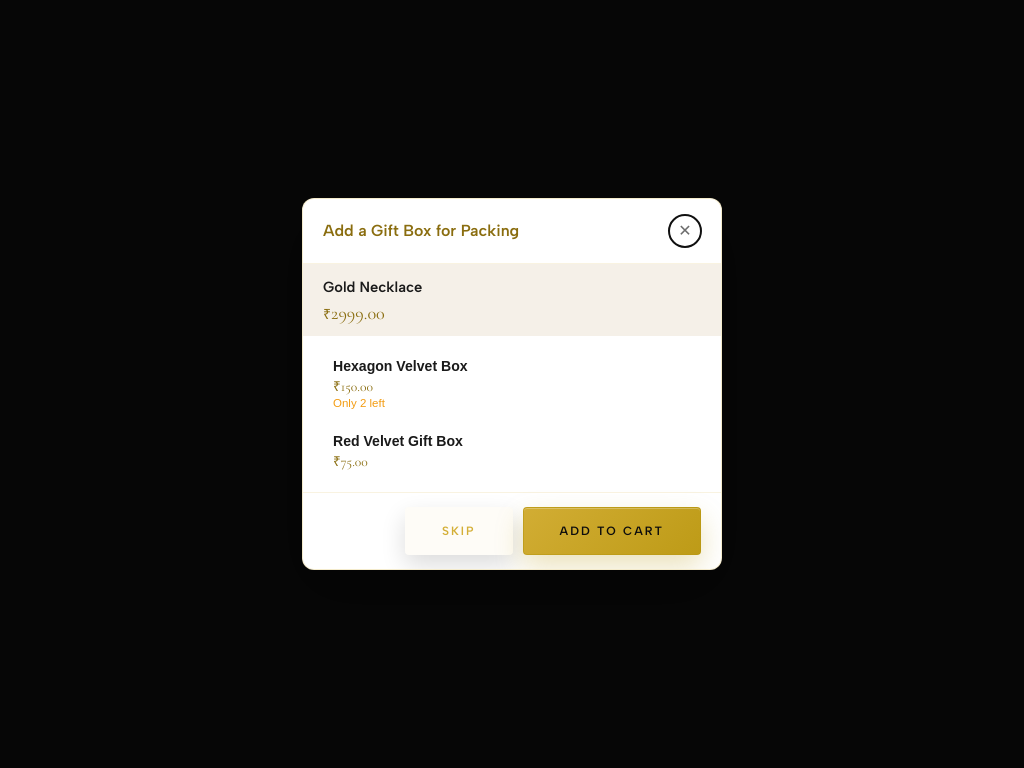
Test: GiftBoxModal › increments gift box quantity
Note: Select the box
Click the text "Hexagon Velvet Box": (400, 366) [333,358,468,374]
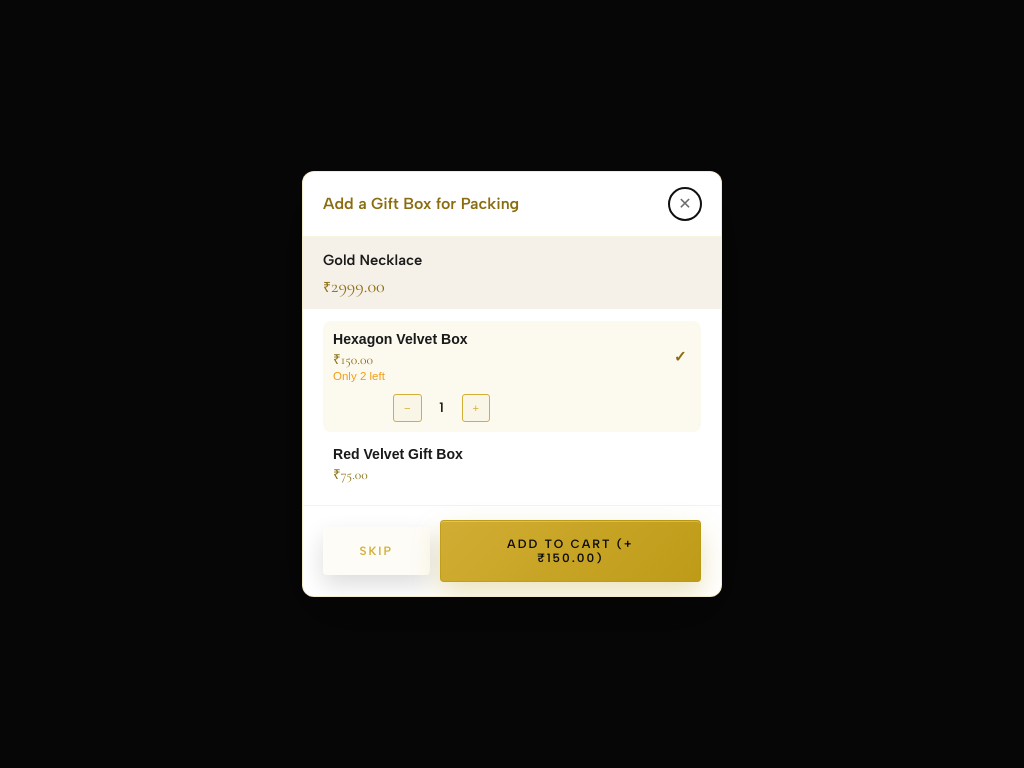
Expected: the button "+" is shown
Click the button "+": (476, 408) [462,394,490,422]
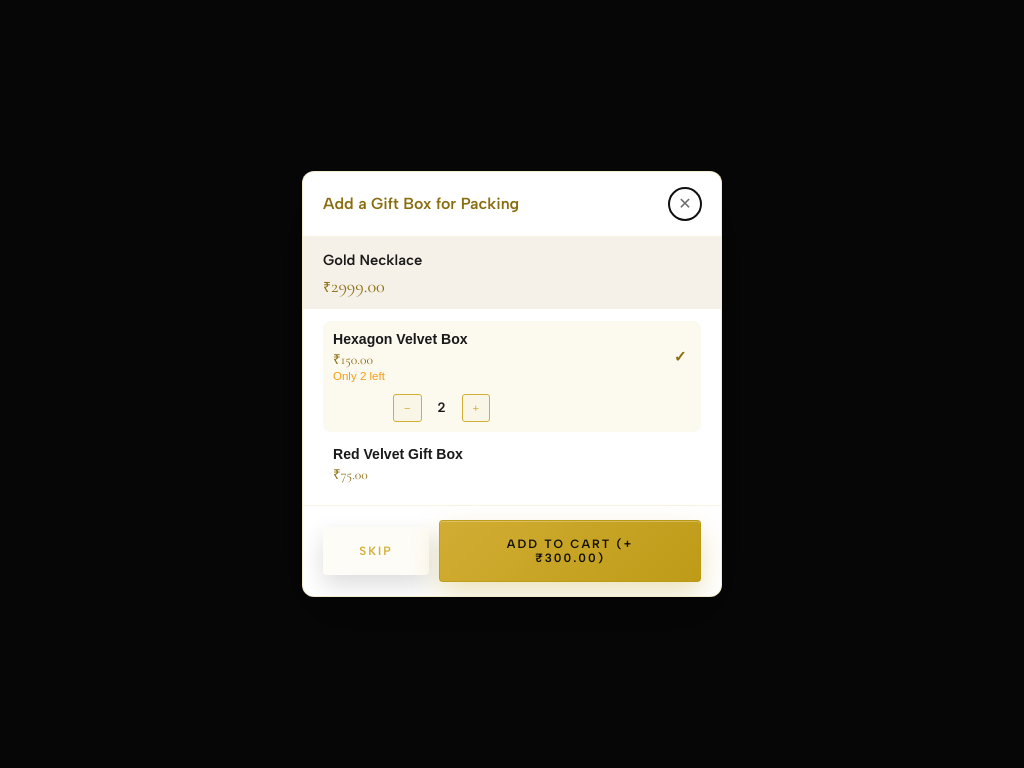
Expected: the text "2" is shown, [438,399,446,415]
Expected: the button "Add to Cart (+₹300.00)" is shown, [439,520,701,582]
